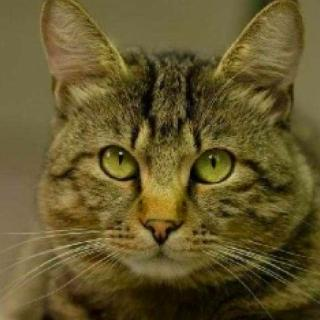cat: (31, 0, 309, 293)
nose: (136, 193, 190, 251)
